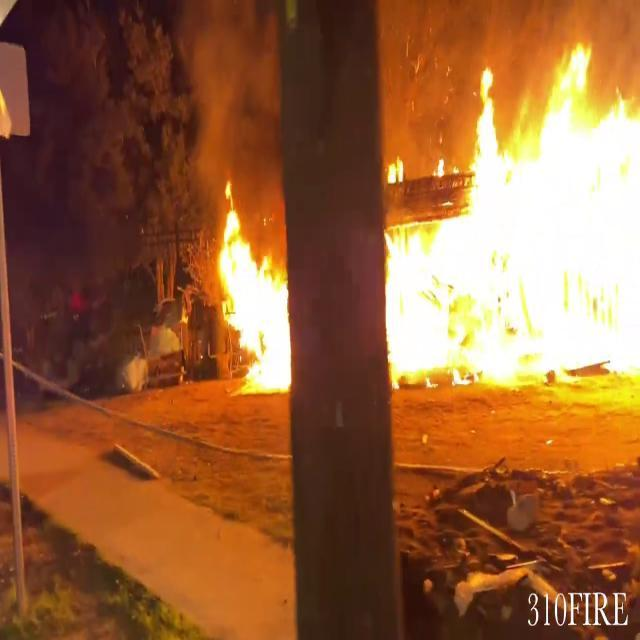Fire: (379, 30, 640, 391), (206, 176, 298, 394)
Smoke: (169, 0, 301, 199)
